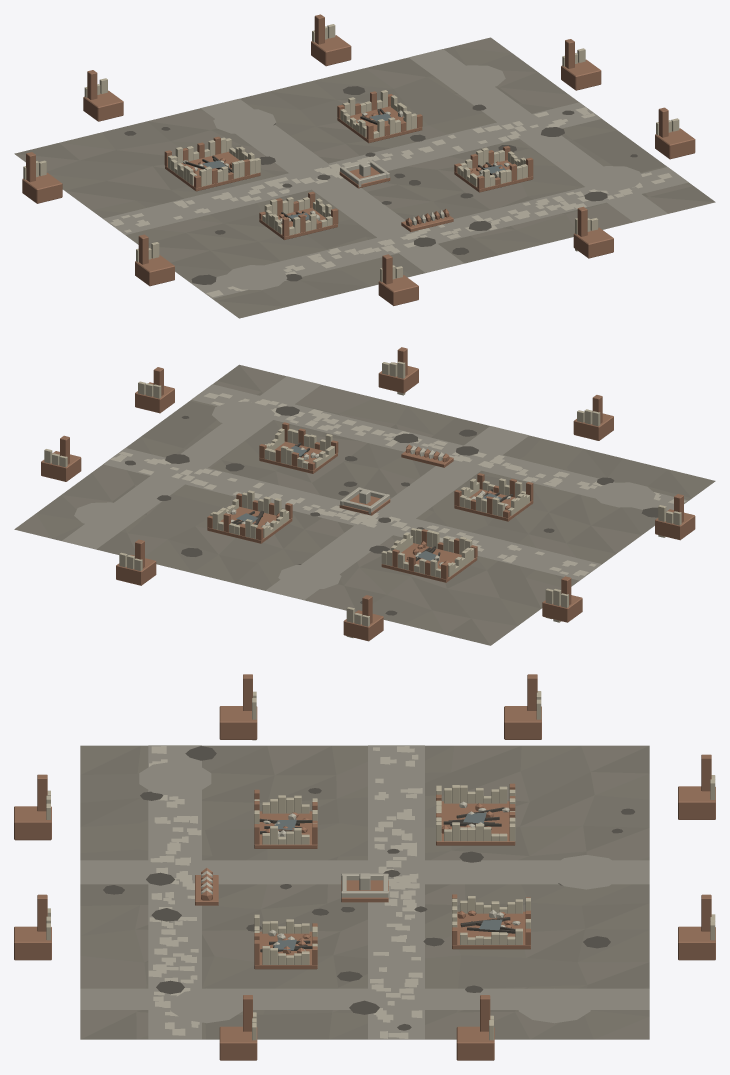
File: village_map.glb
3 views of the same model, one above another, from view 1: azimuth 30°, elevation 25°; view 2: azimuth 150°, elevation 25°; view 3: azimuth 270°, elevation 25° (orthographic). The views are drawn at different scales.
Visible parts, largest first — view 1: VIS_Batch_Ground_0_Ground_1_Ground_2_Ground_3, VIS_Batch_Packed_dirt, VIS_Batch_Broken_brick, VIS_Batch_Weathered_plaster, VIS_Batch_Limestone, VIS_Batch_Ground_scorch; view 2: VIS_Batch_Ground_0_Ground_1_Ground_2_Ground_3, VIS_Batch_Packed_dirt, VIS_Batch_Broken_brick, VIS_Batch_Weathered_plaster, VIS_Batch_Limestone, VIS_Batch_Ground_scorch; view 3: VIS_Batch_Ground_0_Ground_1_Ground_2_Ground_3, VIS_Batch_Packed_dirt, VIS_Batch_Broken_brick, VIS_Batch_Limestone, VIS_Batch_Weathered_plaster, VIS_Batch_Ground_scorch, VIS_Batch_Charred_timber, VIS_Batch_Slate_roof.
Part boxes in pixels (bbox=[...]): VIS_Batch_Ground_0_Ground_1_Ground_2_Ground_3: bbox=[14, 37, 715, 318]; VIS_Batch_Packed_dirt: bbox=[103, 49, 688, 298]; VIS_Batch_Broken_brick: bbox=[22, 14, 695, 305]; VIS_Batch_Weathered_plaster: bbox=[23, 24, 679, 282]; VIS_Batch_Limestone: bbox=[110, 107, 672, 297]; VIS_Batch_Ground_scorch: bbox=[124, 86, 637, 284]; VIS_Batch_Ground_0_Ground_1_Ground_2_Ground_3: bbox=[14, 364, 715, 645]; VIS_Batch_Packed_dirt: bbox=[62, 376, 688, 600]; VIS_Batch_Broken_brick: bbox=[41, 347, 695, 641]; VIS_Batch_Weathered_plaster: bbox=[44, 361, 681, 637]; VIS_Batch_Limestone: bbox=[110, 393, 685, 576]; VIS_Batch_Ground_scorch: bbox=[125, 406, 658, 615]; VIS_Batch_Ground_0_Ground_1_Ground_2_Ground_3: bbox=[80, 745, 649, 1039]; VIS_Batch_Packed_dirt: bbox=[80, 745, 649, 1039]; VIS_Batch_Broken_brick: bbox=[14, 674, 715, 1060]; VIS_Batch_Limestone: bbox=[148, 746, 520, 1038]; VIS_Batch_Weathered_plaster: bbox=[46, 691, 715, 1040]; VIS_Batch_Ground_scorch: bbox=[103, 746, 634, 1030]; VIS_Batch_Charred_timber: bbox=[259, 807, 515, 952]; VIS_Batch_Slate_roof: bbox=[274, 813, 502, 950].
Bounding box in the file's own units: 50.4 × 3.8 × 44.4.
